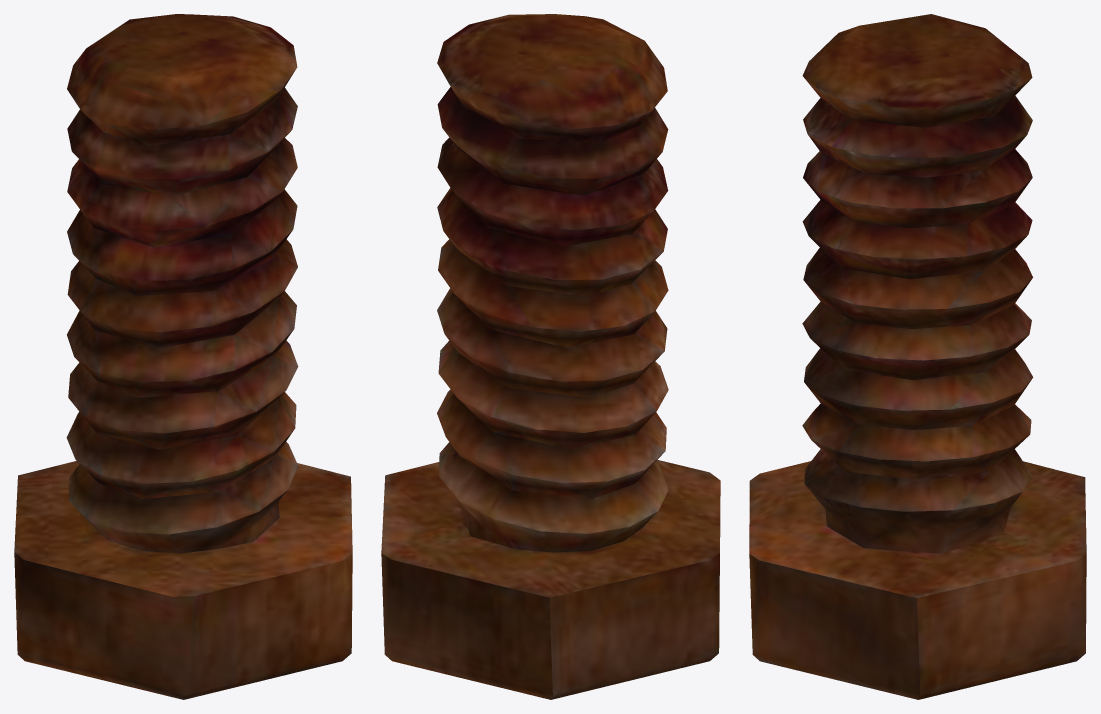
File: bolts_nuts_03.glb
3 views of the same model, side by side, from view 1: azimuth 30°, elevation 25°; view 2: azimuth 150°, elevation 25°; view 3: azimuth 270°, elevation 25° (orthographic).
Visible parts, largest first — view 1: bolts_nuts_03; view 2: bolts_nuts_03; view 3: bolts_nuts_03.
Part boxes in pixels (x1=…): bolts_nuts_03: x1=14, y1=14, x2=352, y2=699; bolts_nuts_03: x1=381, y1=14, x2=720, y2=699; bolts_nuts_03: x1=749, y1=14, x2=1086, y2=699.
Size of what is drawn, in the model's own units: 0.0446 by 0.0734 by 0.0391.
Materials: 1 (1 with a texture image).
